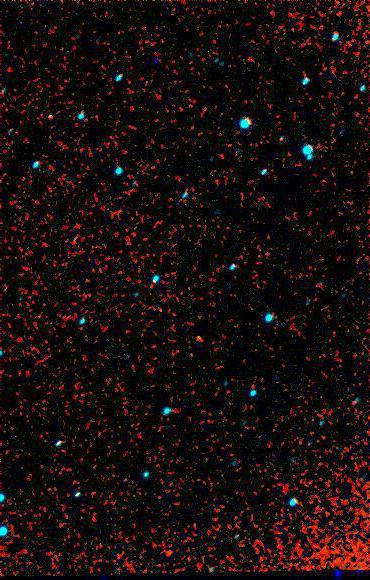star: (155, 537, 185, 567)
